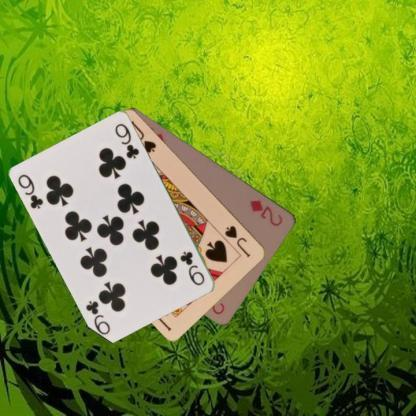2d: (247, 197, 284, 228)
9c: (16, 172, 46, 210), (178, 249, 206, 287)
Js: (223, 223, 252, 260)
